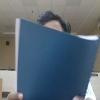notebook: (14, 17, 99, 99)
